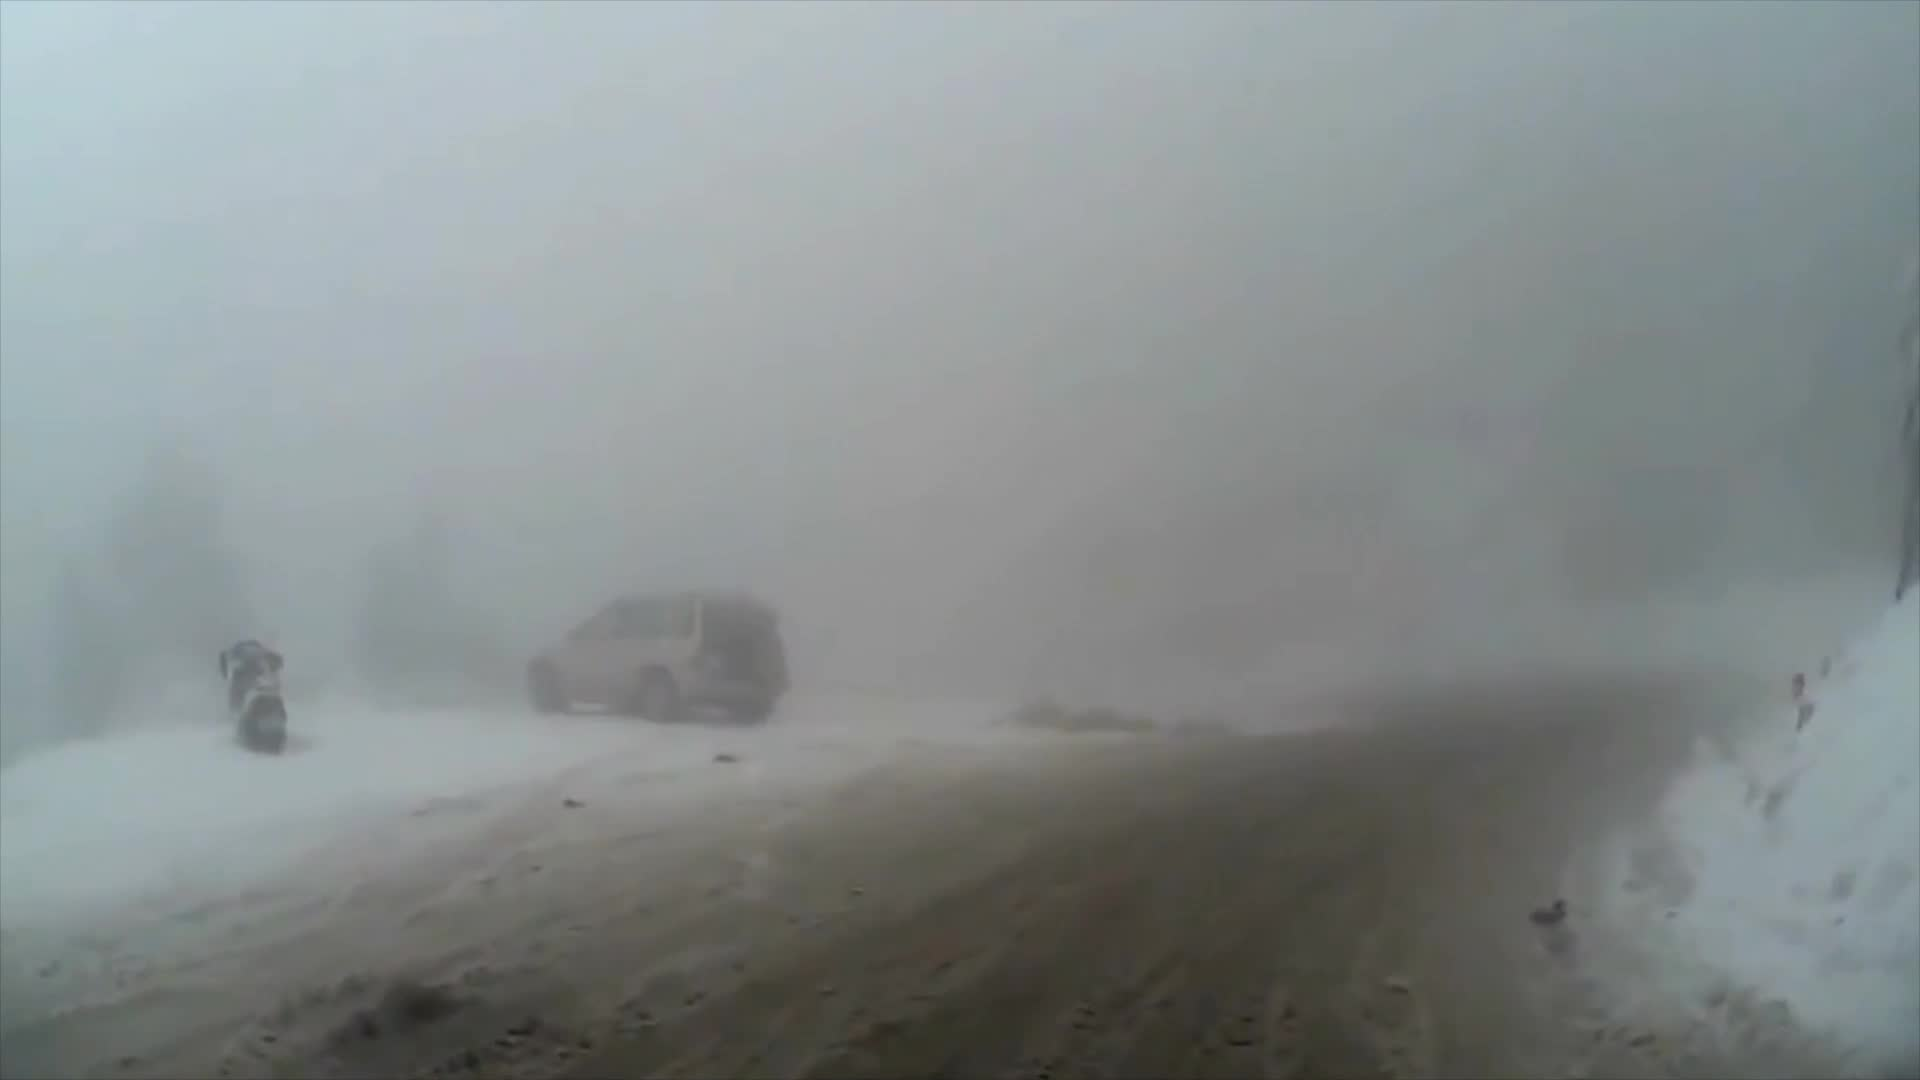vehicle: (521, 589, 787, 727)
